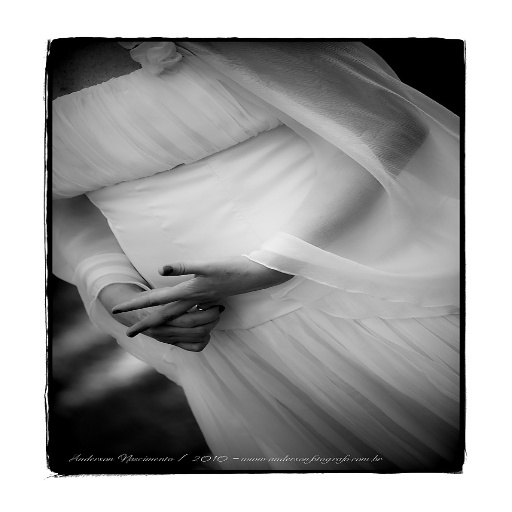hand: (109, 263, 247, 339)
